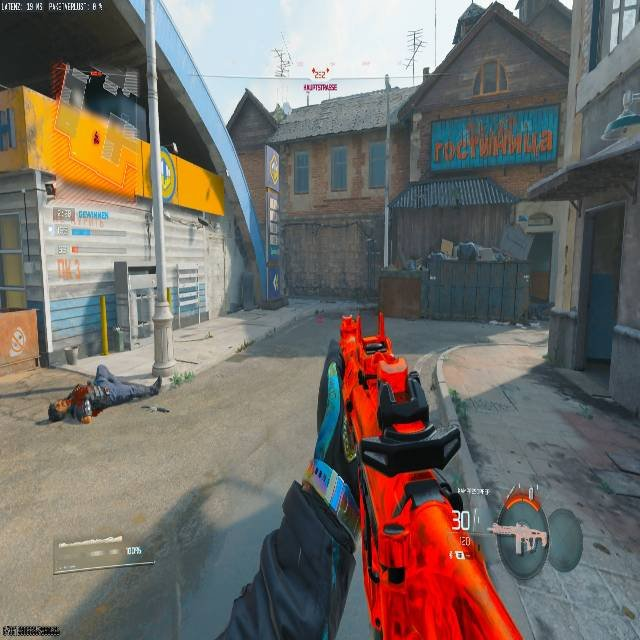head: (47, 398, 71, 422)
